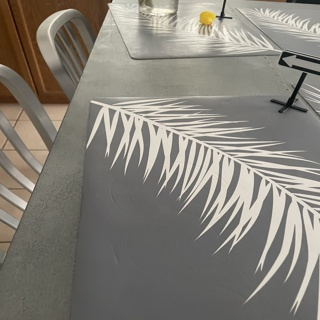sign_oneway_left: (279, 48, 318, 74)
